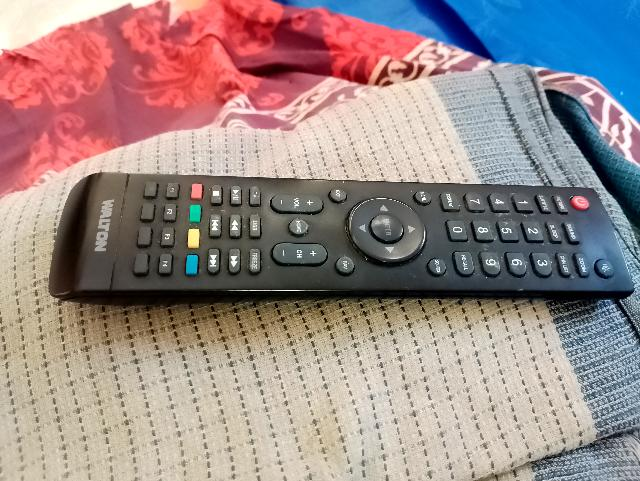hardplastic: (59, 151, 640, 323)
